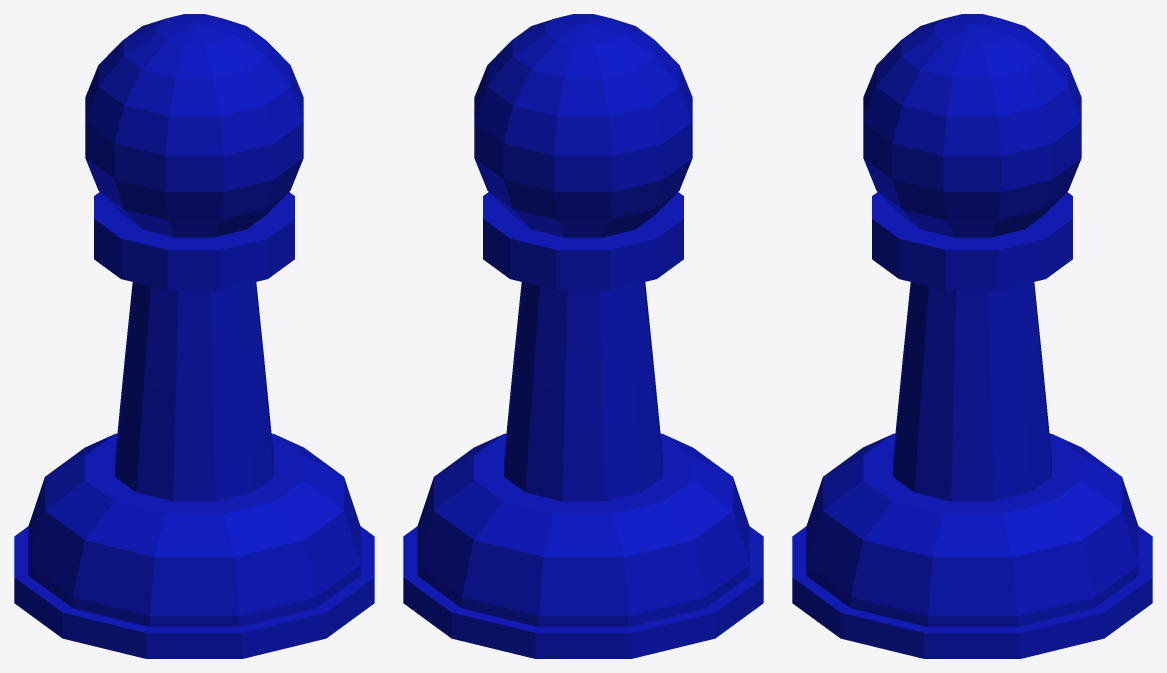
Rendered from blue_pown.glb.
The picture shows the model from 3 angles, left to right: view 1: azimuth 30°, elevation 25°; view 2: azimuth 150°, elevation 25°; view 3: azimuth 270°, elevation 25°; orthographic projection.
Parts seen in each view (by area): view 1: bdbbe5d3-7e8a-4ab4-ad6c-9a819e138e8c; view 2: bdbbe5d3-7e8a-4ab4-ad6c-9a819e138e8c; view 3: bdbbe5d3-7e8a-4ab4-ad6c-9a819e138e8c.
Part boxes in pixels (left/top/right/bottom): bdbbe5d3-7e8a-4ab4-ad6c-9a819e138e8c: left=14, top=14, right=374, bottom=658; bdbbe5d3-7e8a-4ab4-ad6c-9a819e138e8c: left=403, top=14, right=763, bottom=658; bdbbe5d3-7e8a-4ab4-ad6c-9a819e138e8c: left=792, top=14, right=1152, bottom=658.
Size of the model in its own units: 0.1256 by 0.215 by 0.1256.
